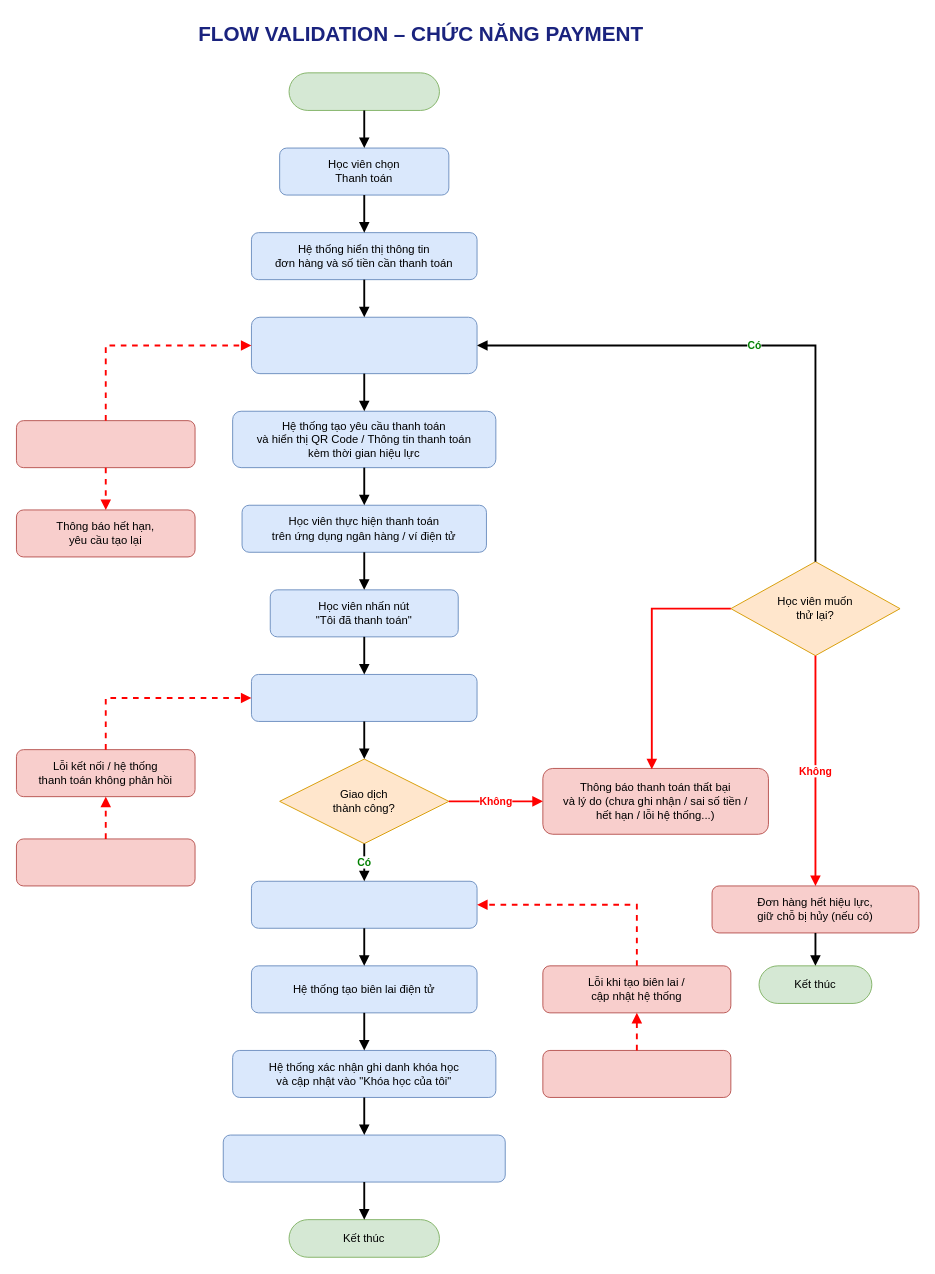
The diagram is 935 pixels wide and 1274 high, and some of its shapes have lost their labels. Here are the shapes that lost their labels. From the top down, the centre of each, then its label:
point (363, 91): Bắt đầu
point (364, 345): Học viên chọn phương thức thanh toán (Ví điện tử / VietQR)
point (105, 444): QR Code / Yêu cầu thanh toán hết thời gian hiệu lực
point (364, 697): Hệ thống kiểm tra giao dịch với nhà cung cấp thanh toán
point (105, 862): Thông báo lỗi hệ thống, vui lòng thử lại sau
point (364, 904): Hệ thống cập nhật trạng thái đơn hàng = Đã thanh toán
point (636, 1073): Thực hiện xử lý tự động và thông báo cho quản trị viên
point (363, 1158): Hệ thống gửi thông báo thanh toán thành công và biên lai cho học viên
